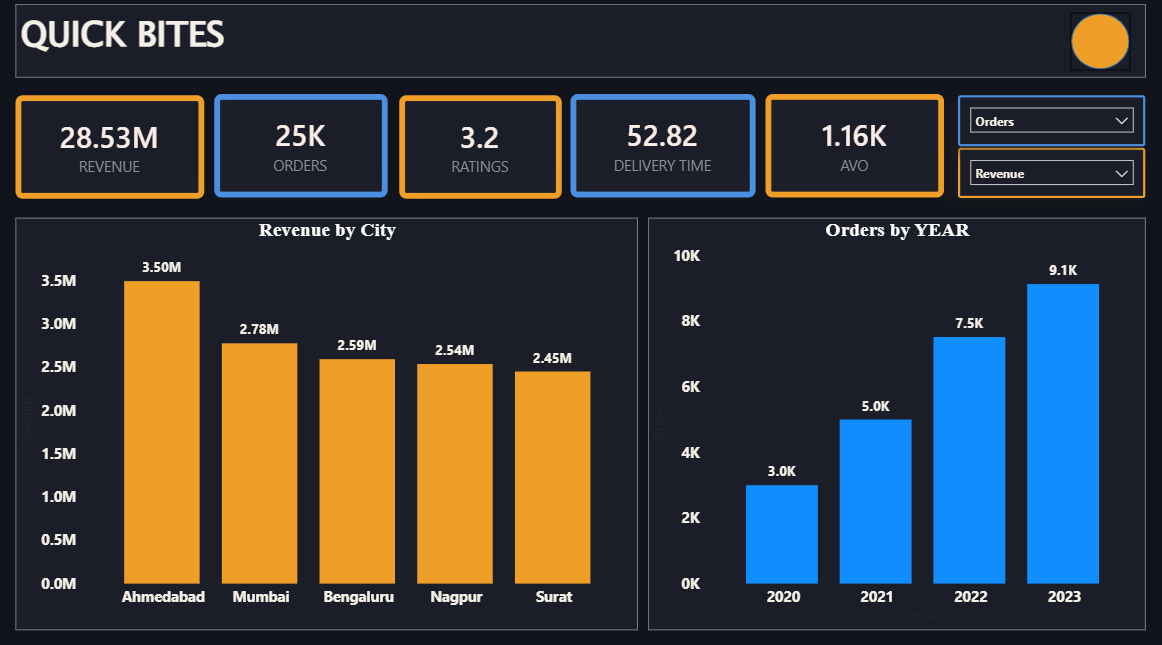

The dashboard page shown, as its layout file describes it:
{"tool":"powerbi","page":{"name":"QUICK-BITES","canvas":[1280,720],"ordinal":0},"visuals":[{"type":"clusteredColumnChart","fields":{"Y":["FACT_ORDERS.REVENUE"],"Category":["CUSTOMER.City"]},"box":[19.2,245.6,683.4,452.8],"z":0},{"type":"slicer","title":"Select Metric","fields":{"Values":["Parameter.Parameter"]},"box":[1053.9,167.4,205.8,56.3],"z":1000},{"type":"clusteredColumnChart","fields":{"Y":["FACT_ORDERS.ORDERS"],"Category":["FACT_ORDERS.YEAR"]},"box":[713.6,245.6,546.1,452.8],"z":2000},{"type":"textbox","box":[19.2,11,1240.5,81],"z":3000},{"type":"shape","box":[1177.4,20.6,65.9,63.1],"z":4000},{"type":"cardVisual","fields":{"Data":["FACT_ORDERS.REVENUE"]},"box":[19.2,111.1,207.2,113.9],"z":5000},{"type":"cardVisual","fields":{"Data":["FACT_ORDERS.TOTAL ORDERS"]},"box":[237.4,109.8,190.7,113.9],"z":6000},{"type":"cardVisual","fields":{"Data":["FACT_ORDERS.AVG DELIVERY TIME"]},"box":[628.5,109.8,203.1,113.9],"z":7000},{"type":"cardVisual","fields":{"Data":["FACT_ORDERS.AVG RATING"]},"box":[440.5,111.1,178.4,113.9],"z":8000},{"type":"cardVisual","fields":{"Data":["FACT_ORDERS.AVO"]},"box":[842.5,109.8,196.2,113.9],"z":9000},{"type":"slicer","title":"Select Metric","fields":{"Values":["Parameter 2.Parameter"]},"box":[1053.9,111.1,205.8,60.4],"z":10000}]}

Visuals, with their boxes in screenshot pixels (x1, y1, x2, y2), scaled from the page's 1280x720 canvas onto the 1162x645 screenshot:
clusteredColumnChart - FACT_ORDERS.REVENUE x CUSTOMER.City: BBox(17, 220, 638, 626)
"Select Metric" slicer: BBox(957, 150, 1144, 200)
clusteredColumnChart - FACT_ORDERS.ORDERS x FACT_ORDERS.YEAR: BBox(648, 220, 1144, 626)
textbox: BBox(17, 10, 1144, 82)
shape: BBox(1069, 18, 1129, 75)
cardVisual - FACT_ORDERS.REVENUE: BBox(17, 100, 206, 202)
cardVisual - FACT_ORDERS.TOTAL ORDERS: BBox(216, 98, 389, 200)
cardVisual - FACT_ORDERS.AVG DELIVERY TIME: BBox(571, 98, 755, 200)
cardVisual - FACT_ORDERS.AVG RATING: BBox(400, 100, 562, 202)
cardVisual - FACT_ORDERS.AVO: BBox(765, 98, 943, 200)
"Select Metric" slicer: BBox(957, 100, 1144, 154)
